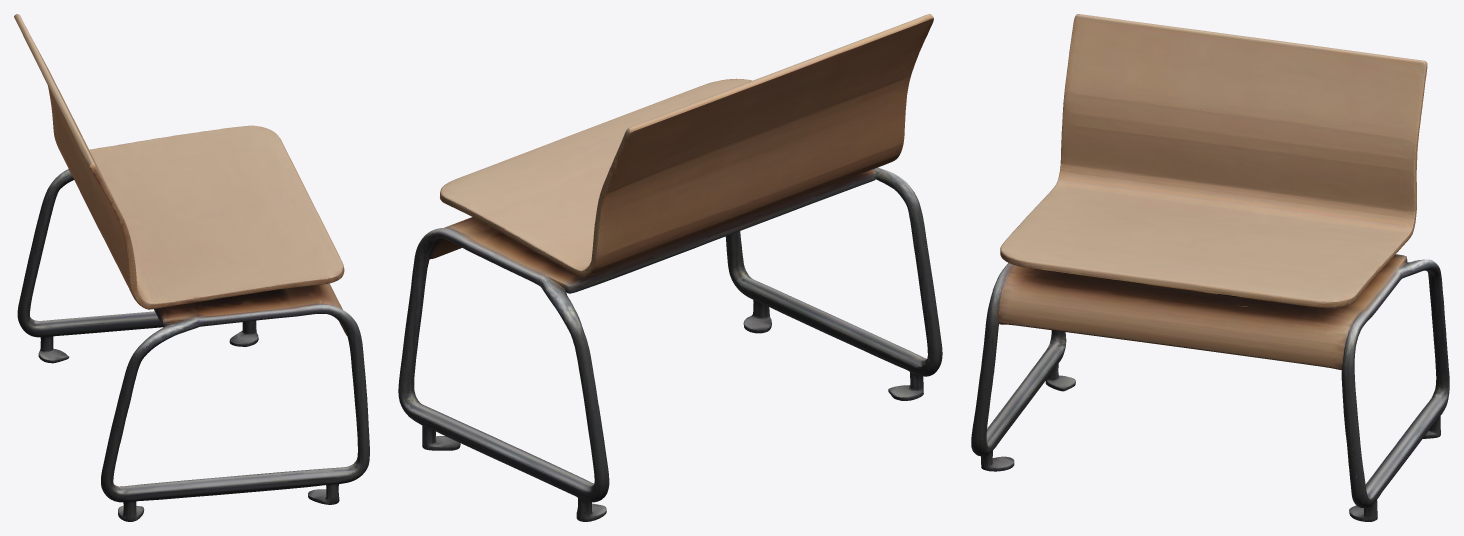
File: wooden_chair_on_the_right_000.glb
3 views of the same model, side by side, from view 1: azimuth 30°, elevation 25°; view 2: azimuth 150°, elevation 25°; view 3: azimuth 270°, elevation 25° (orthographic). The views are drawn at different scales.
Parts seen in each view (by area): view 1: phase2_final_wooden_chair_on_the_right_000.obj; view 2: phase2_final_wooden_chair_on_the_right_000.obj; view 3: phase2_final_wooden_chair_on_the_right_000.obj.
Part boxes in pixels (x1,y1,x2,y2): phase2_final_wooden_chair_on_the_right_000.obj: (14, 14, 369, 521); phase2_final_wooden_chair_on_the_right_000.obj: (398, 14, 942, 521); phase2_final_wooden_chair_on_the_right_000.obj: (971, 14, 1449, 521).
Size of the model in its own units: 0.5242 by 0.5273 by 0.6392.
1 material, 1 textured.
